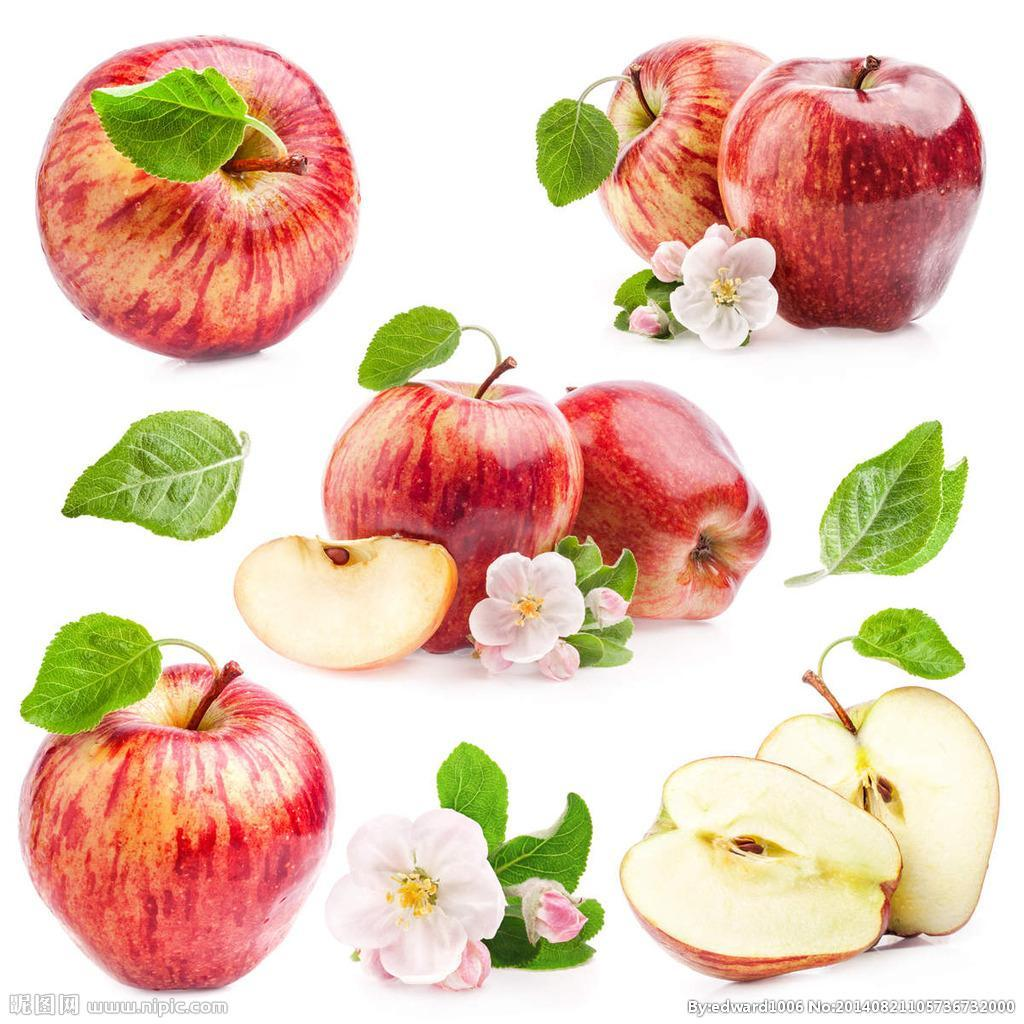apple: (37, 41, 361, 369), (24, 676, 334, 1007), (717, 50, 986, 333), (325, 381, 579, 656), (554, 379, 770, 623), (592, 35, 770, 264)
